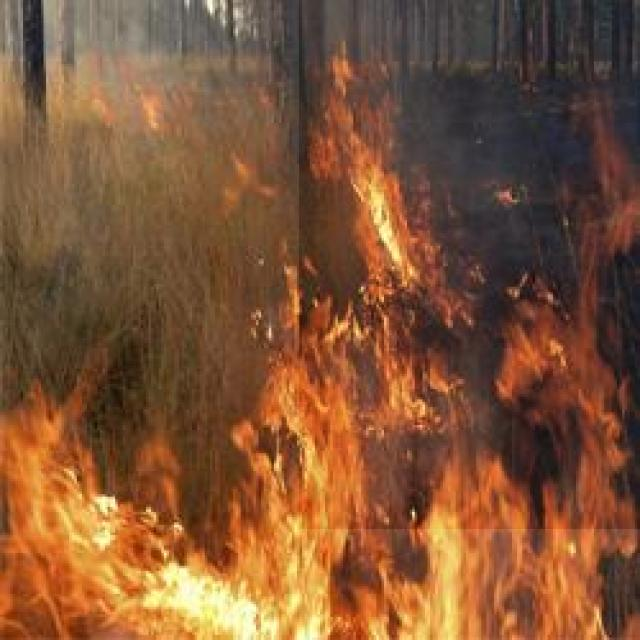Fire: (5, 61, 640, 640)
Smoke: (299, 0, 640, 529)
